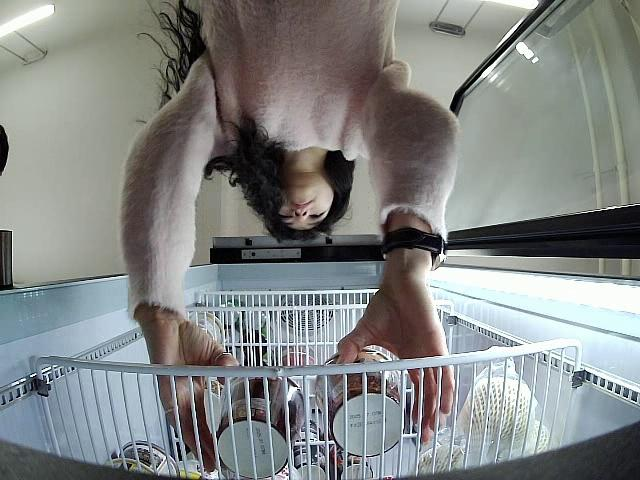00_hand: (333, 283, 455, 444), (154, 315, 239, 474)
06_nuguri_S: (312, 345, 406, 457), (218, 372, 305, 479)
